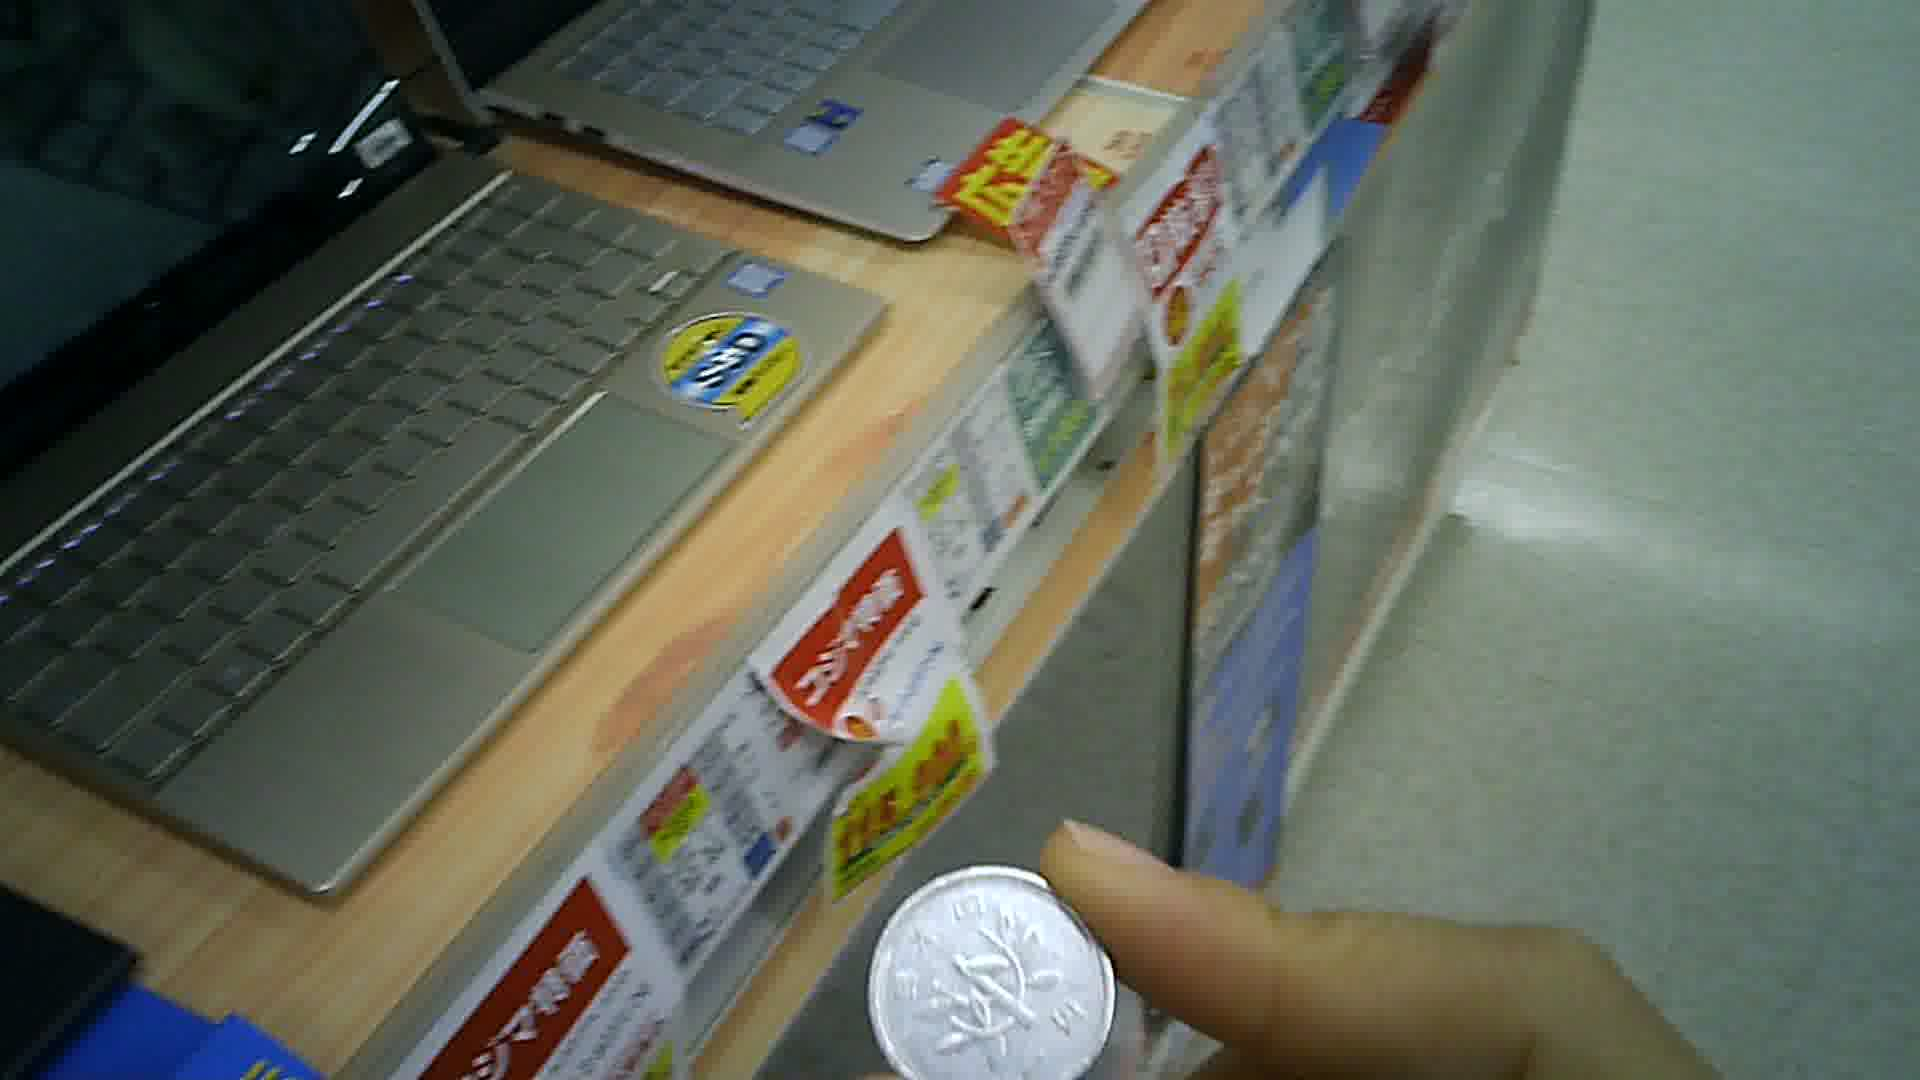1 Yen: (866, 857, 1122, 1075)
